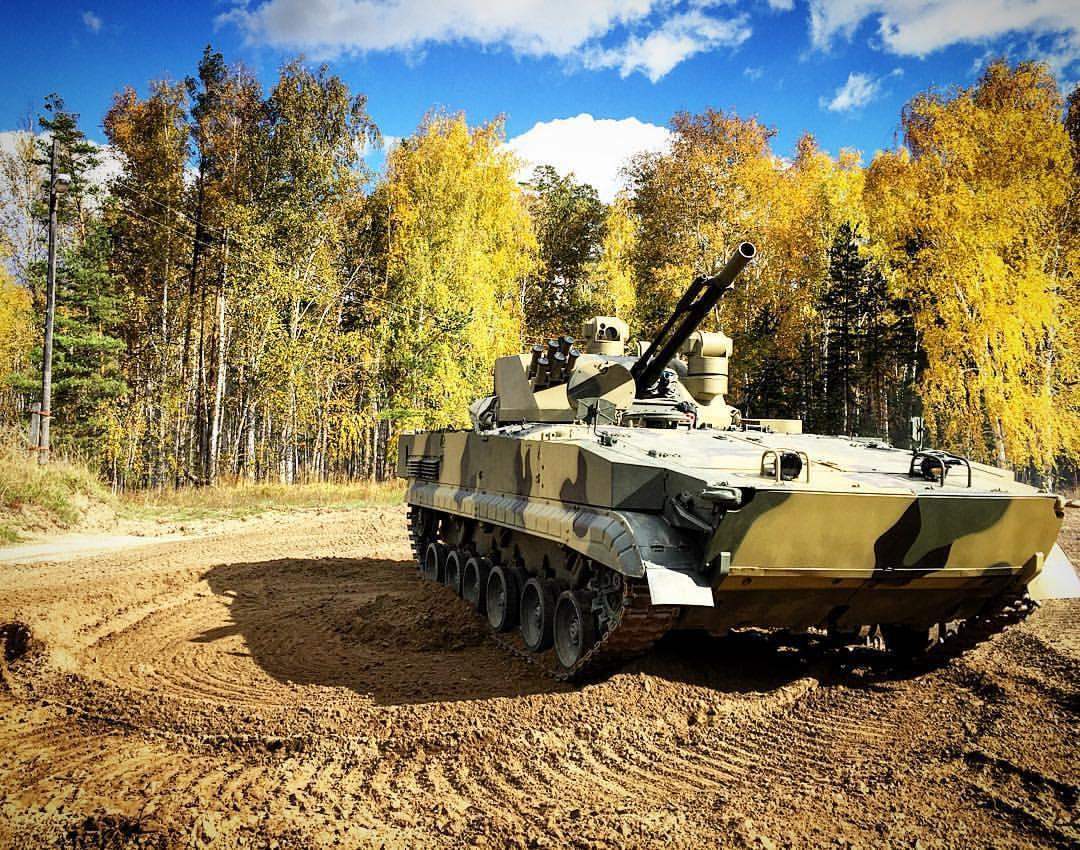tank: (395, 240, 1069, 690)
